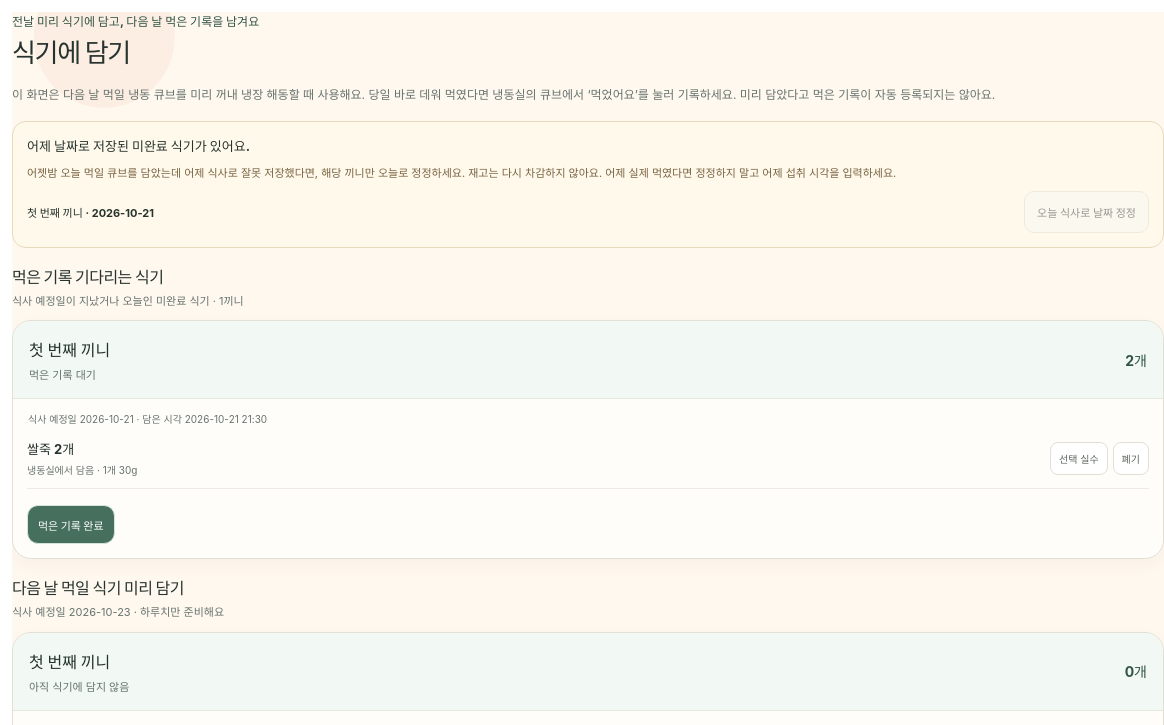
Test case: 어젯밤 식기 날짜 정정 › 과거 날짜 끼니는 섭취 시각을 현재 시각으로 자동 입력하지 않는다
Click the button "먹은 기록 완료" at {"x": 71, "y": 525}, box [27,505,114,544]
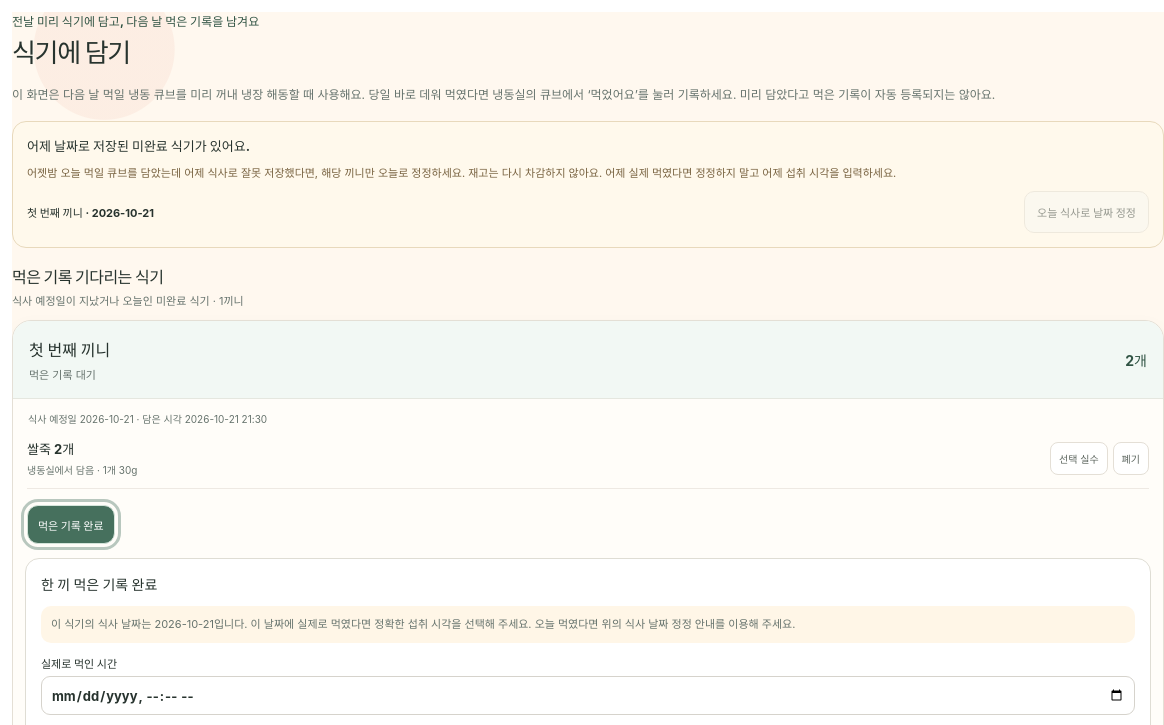
Expected: the field labelled "실제로 먹인 시간" is empty, [41,676,1135,716]
Expected: the text "이 식기의 식사 날짜는" is shown, [51,617,154,631]
